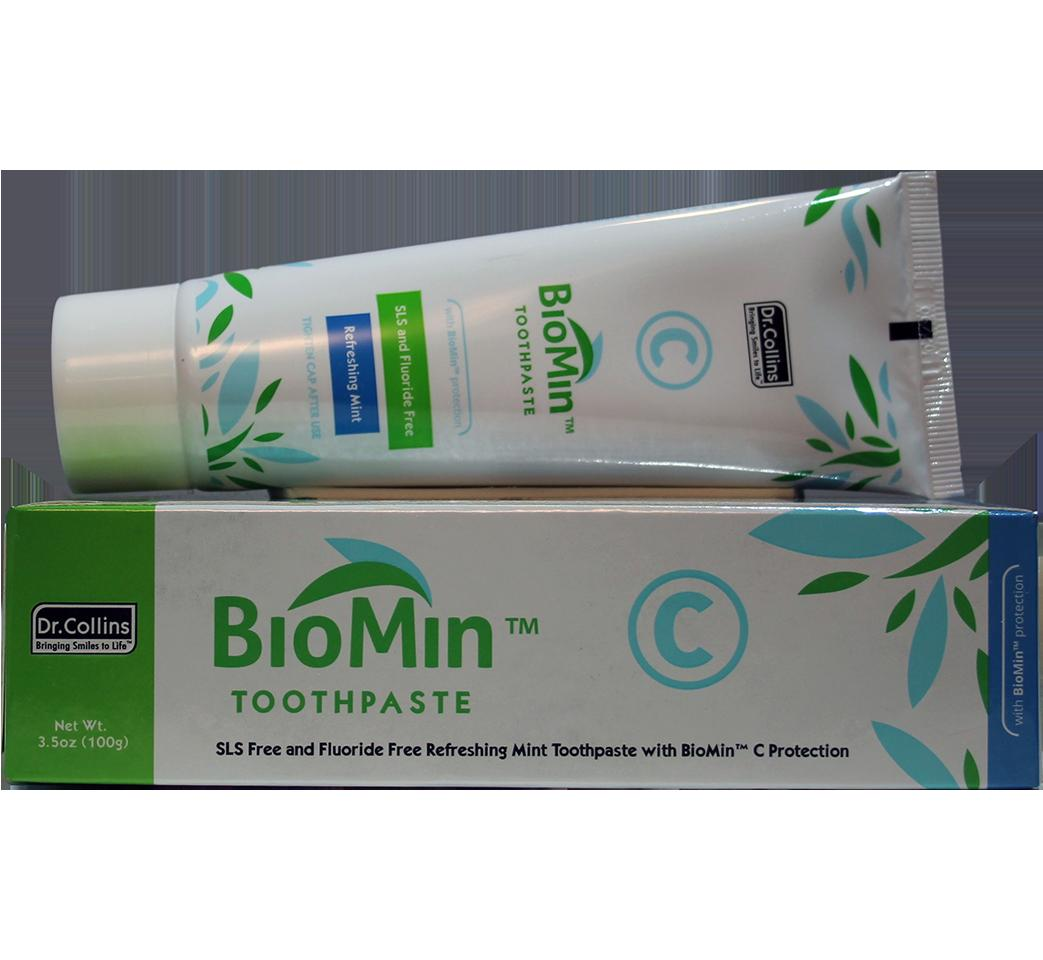toothpaste: (48, 159, 989, 506), (0, 489, 1043, 797)
